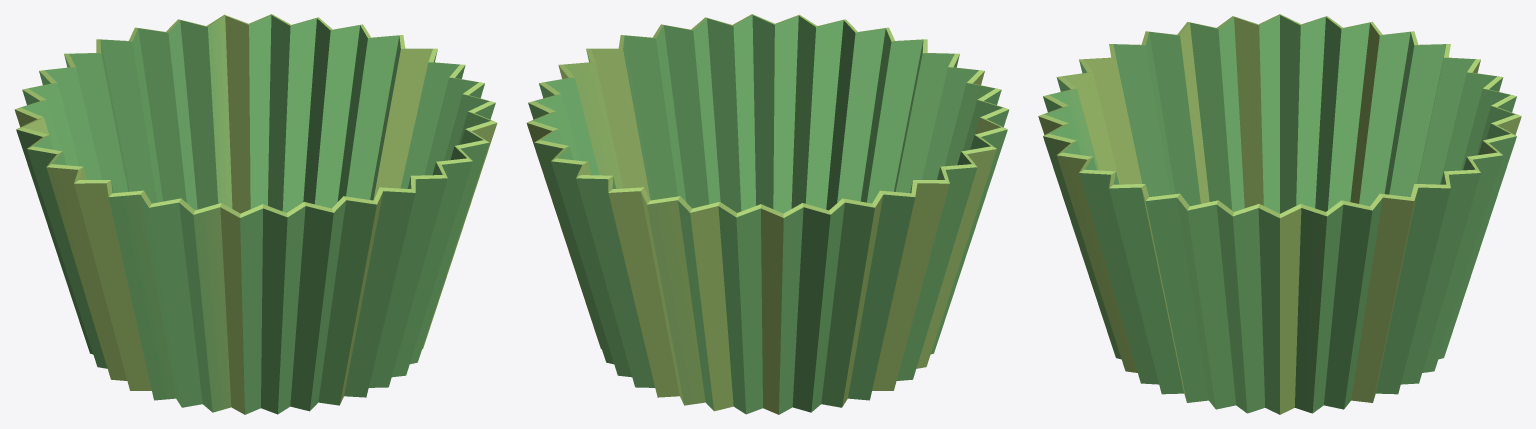
Rendered from cupcake.glb.
3 views of the same model, side by side, from view 1: azimuth 30°, elevation 25°; view 2: azimuth 150°, elevation 25°; view 3: azimuth 270°, elevation 25° (orthographic).
Visible parts, largest first — view 1: cupcake.001; view 2: cupcake.001; view 3: cupcake.001.
Part boxes in pixels (x1,y1,x2,y2): cupcake.001: [14, 14, 497, 414]; cupcake.001: [526, 14, 1009, 414]; cupcake.001: [1038, 14, 1521, 414].
Bounding box in the file's own units: 0.072 × 0.0378 × 0.072.
1 material, 1 textured.
